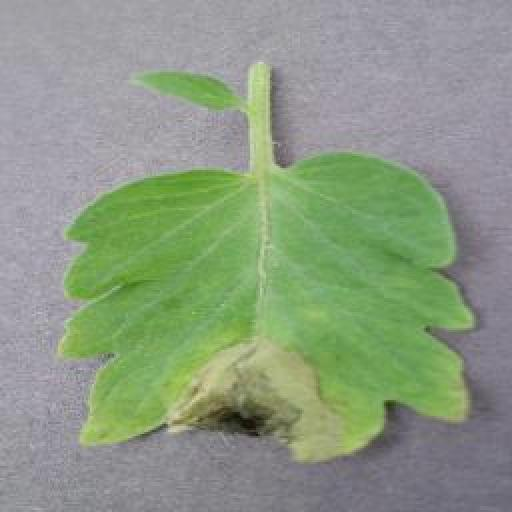disease_tomato: (54, 148, 480, 468)
